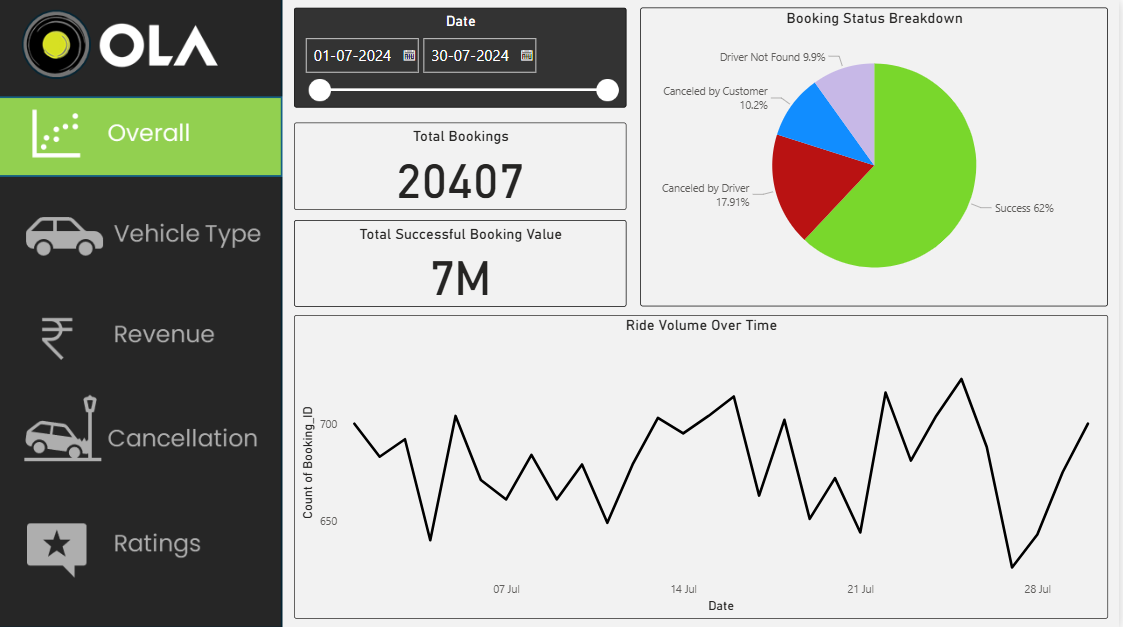

What the dashboard file says about the page in this screenshot:
{"tool":"powerbi","page":{"name":"Overall","canvas":[1280,720],"ordinal":0},"visuals":[{"type":"actionButton","box":[0,224.4,324.5,90.5],"z":0},{"type":"actionButton","box":[0,340.2,324.5,90.5],"z":1000},{"type":"actionButton","box":[0,446.4,324.5,90.5],"z":2000},{"type":"actionButton","box":[0,576.7,324.5,90.5],"z":3000},{"type":"lineChart","title":"Ride Volume Over Time","fields":{"Y":["CountNonNull(Bookings.Booking_ID)"],"Category":["Bookings.Date"]},"box":[336.6,359.5,930.2,347.5],"z":4000},{"type":"pieChart","title":"Booking Status Breakdown","fields":{"Category":["Bookings.Booking_Status"],"Y":["CountNonNull(Bookings.Booking_ID)"]},"box":[732.3,8.4,534.5,341.4],"z":5000},{"type":"slicer","title":"Date","fields":{"Values":["Bookings.Date"]},"box":[336.6,8.4,380,114.6],"z":6000},{"type":"card","title":"Total Bookings","fields":{"Values":["CountNonNull(Bookings.Booking_ID)"]},"box":[336.6,139.9,380,100.1],"z":7000},{"type":"card","title":"Total Successful Booking Value","fields":{"Values":["Sum(Bookings.Booking_Value)"]},"box":[336.6,250.9,380,98.9],"z":8000}]}

Visuals, with their boxes on the page's 1280x720 design canvas (x1, y1, x2, y2). These are canvas units, not pixel positions in the 1123x627 screenshot, which may show the page scaled, cropped or inside an application window:
actionButton: locate(0, 224, 324, 315)
actionButton: locate(0, 340, 324, 431)
actionButton: locate(0, 446, 324, 537)
actionButton: locate(0, 577, 324, 667)
"Ride Volume Over Time" lineChart: locate(337, 360, 1267, 707)
"Booking Status Breakdown" pieChart: locate(732, 8, 1267, 350)
"Date" slicer: locate(337, 8, 717, 123)
"Total Bookings" card: locate(337, 140, 717, 240)
"Total Successful Booking Value" card: locate(337, 251, 717, 350)
